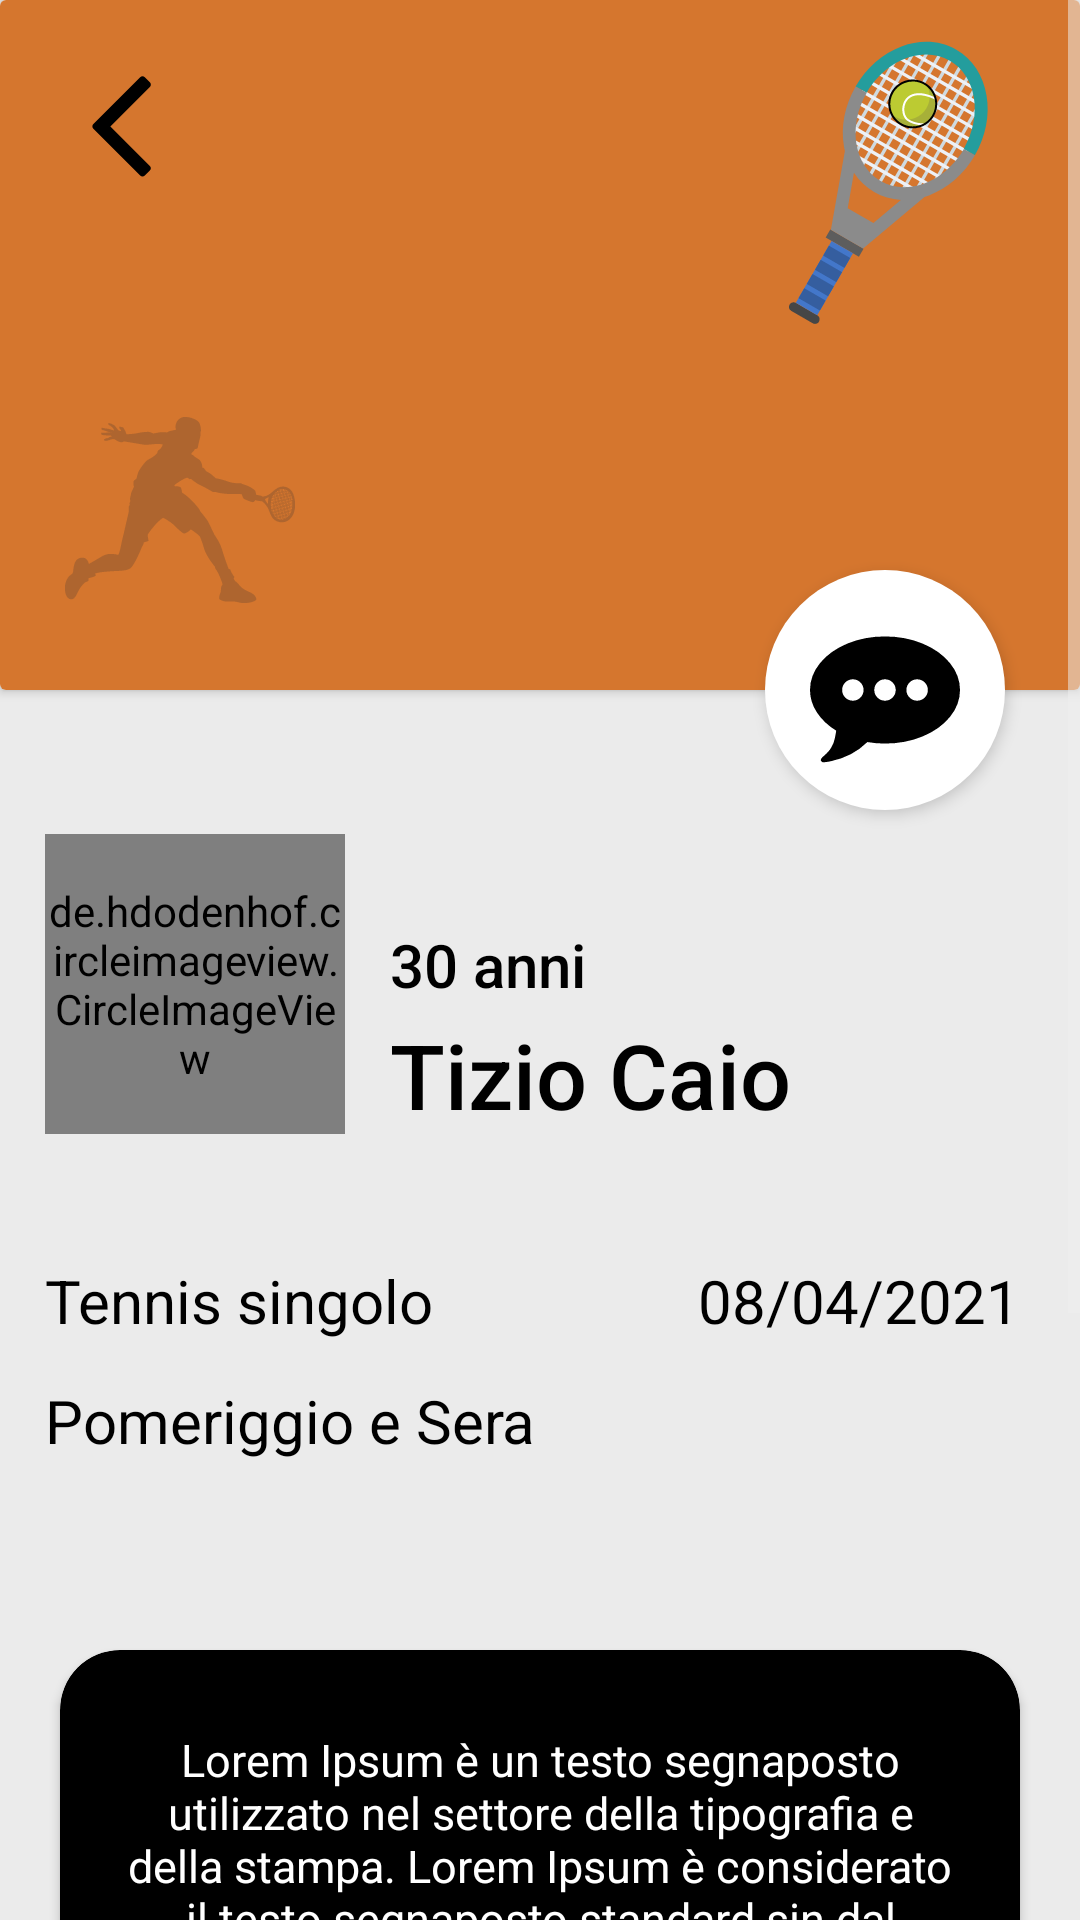

Where icons sit on this 1080px x 1920px app screen, as (x1, y1, x2, y2):
back: (92, 76, 151, 177)
ball tennisss: (789, 41, 988, 324)
player tennis: (65, 417, 295, 603)
